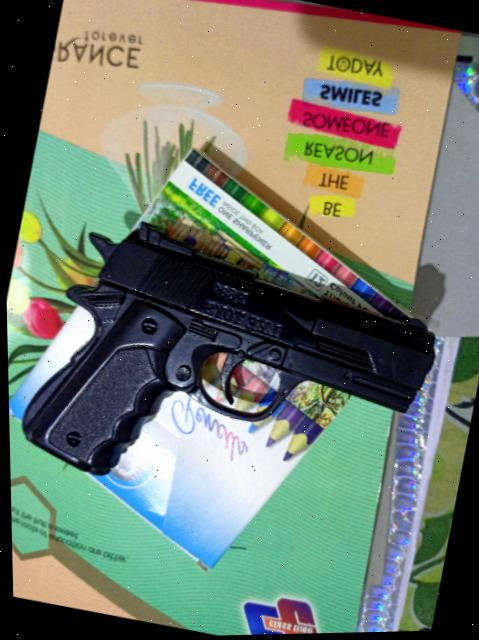pistol: (4, 204, 456, 549)
